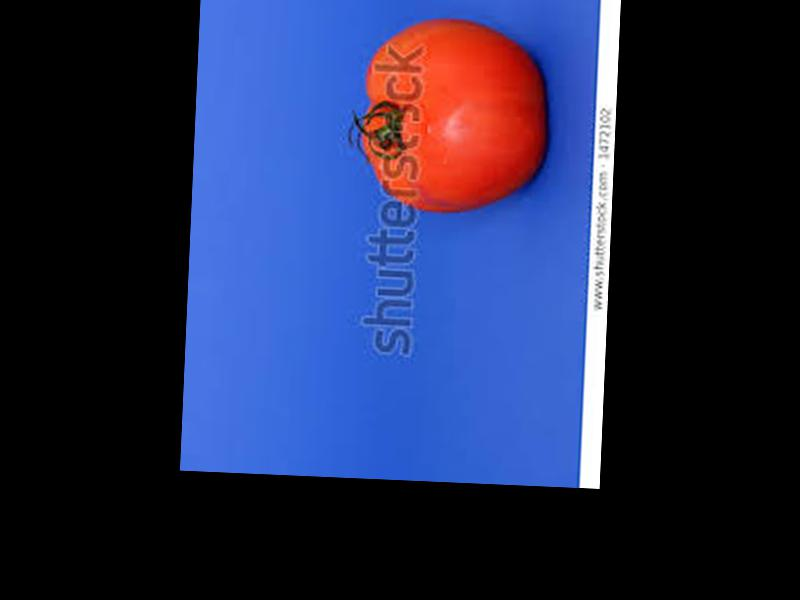Tomato: (357, 11, 548, 214)
